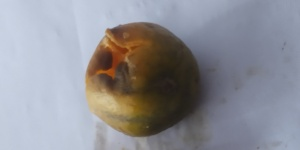BAD: (84, 22, 201, 136)
